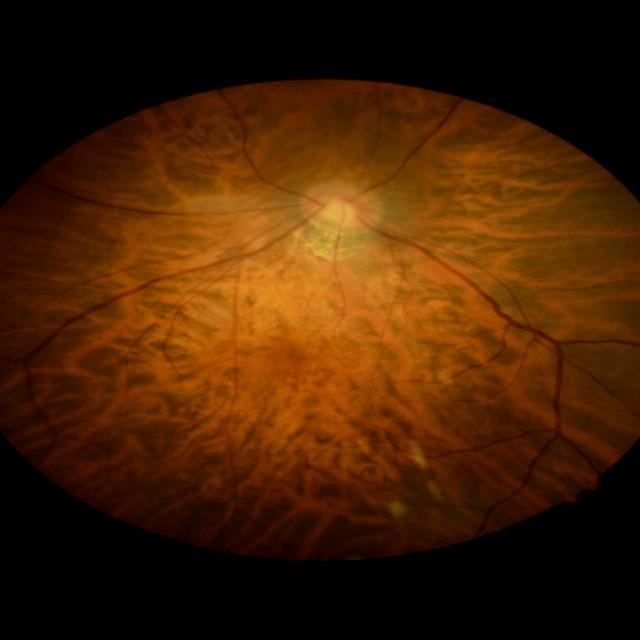cup: (314, 196, 358, 222)
disk: (298, 180, 384, 233)
